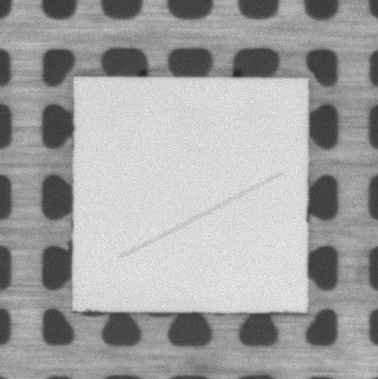DIE_CRACK: (121, 173, 281, 258)
